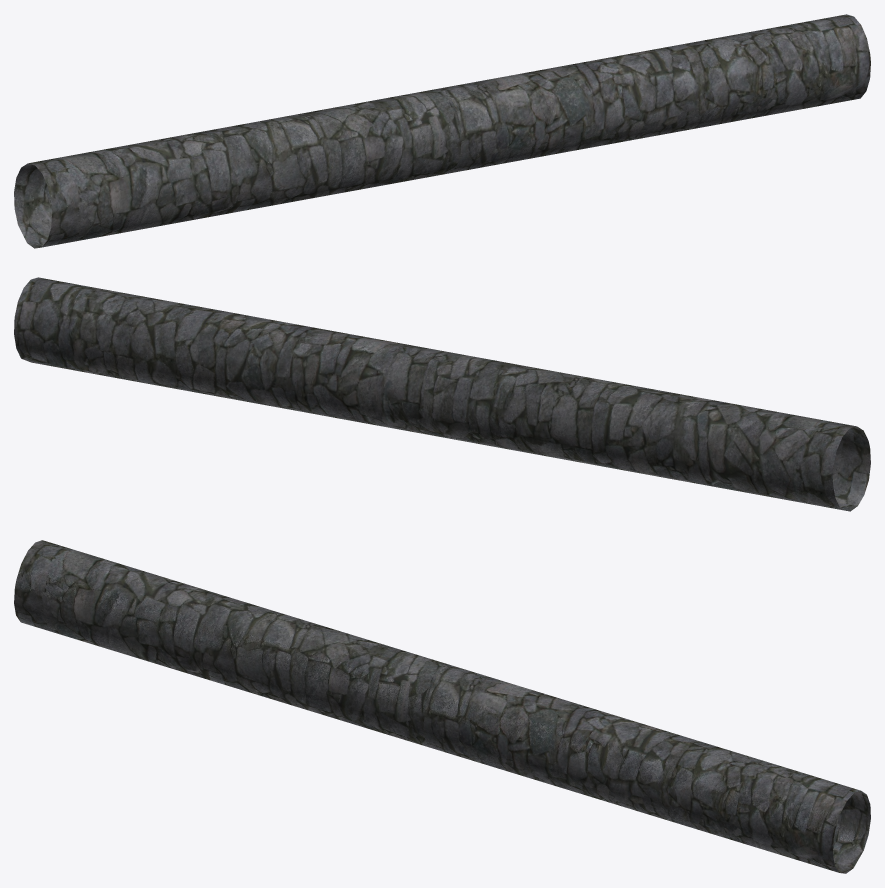
The model's file is Tunnel_3.fbx.
3 renders of one model, top to bottom at view 1: azimuth 30°, elevation 25°; view 2: azimuth 150°, elevation 25°; view 3: azimuth 330°, elevation 25°, orthographic.
Visible parts, largest first — view 1: Tunnel_3; view 2: Tunnel_3; view 3: Tunnel_3.
Part boxes in pixels (left/top/right/bottom): Tunnel_3: left=14, top=14, right=870, bottom=248; Tunnel_3: left=14, top=277, right=870, bottom=511; Tunnel_3: left=14, top=540, right=870, bottom=873.
Size of the model in its own units: 26.35 by 3.97 by 2.09.
